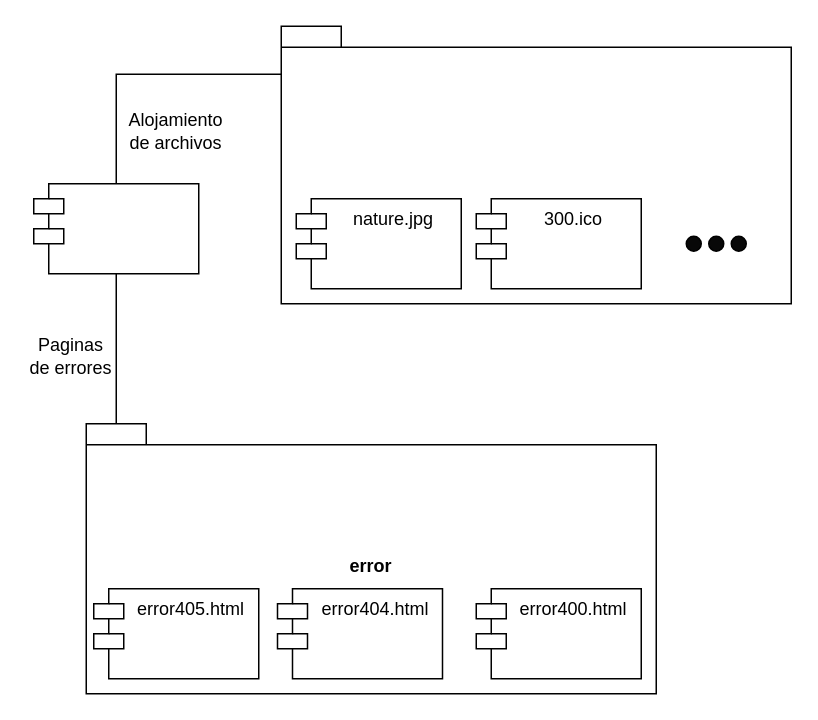
This 818x720 diagram has some shape labels left out. The box of each missing label's shape, as (x1, y1, x2, y2) in pixels:
files: (280, 25, 791, 304)
Server.py: (32, 182, 199, 274)
